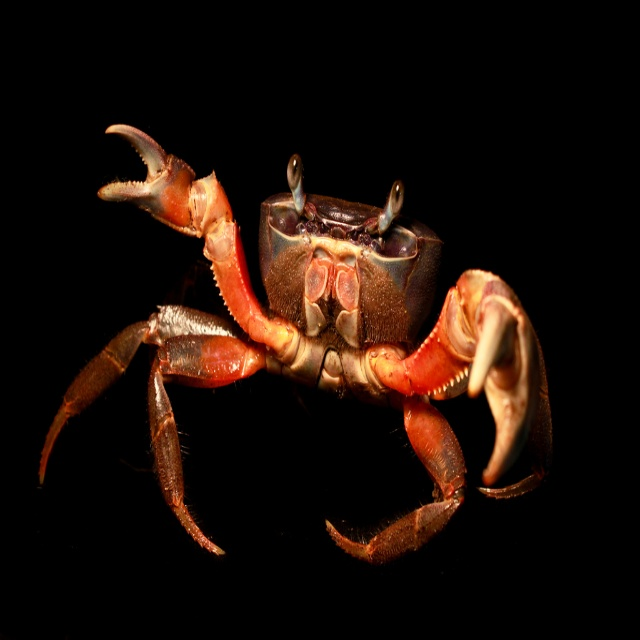Crab: (31, 110, 554, 568)
